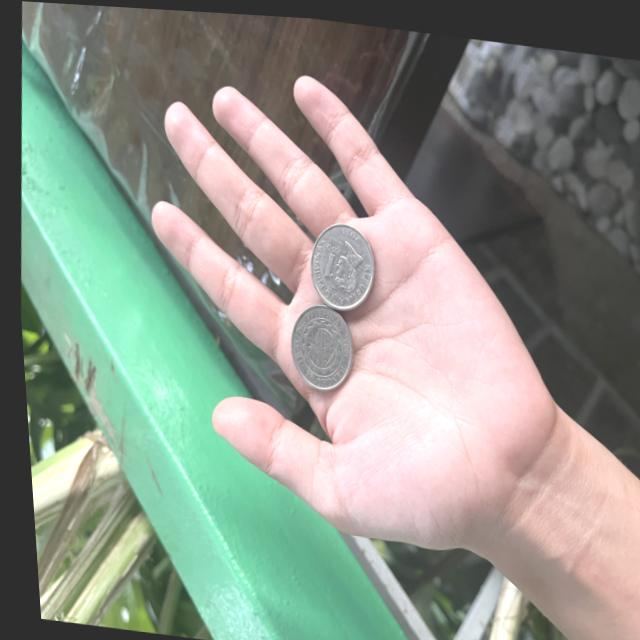1_Old_Back: (288, 303, 349, 383)
1_Old_Front: (305, 219, 367, 302)
